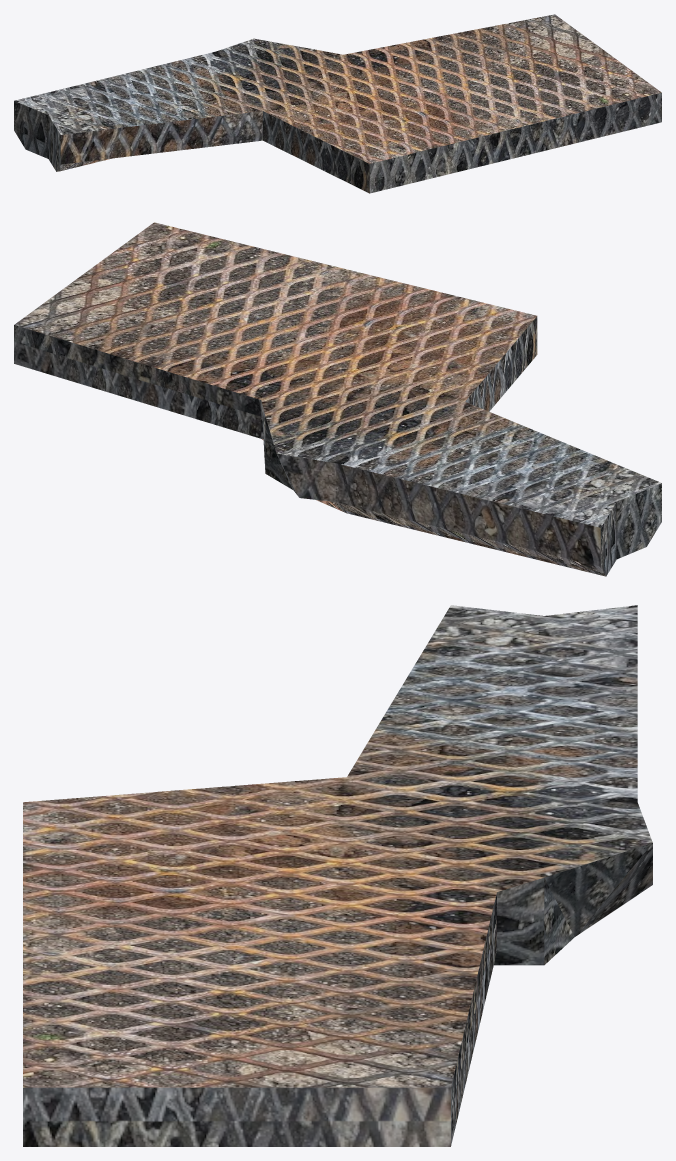
Rendered from ledge01.obj.
3 views of the same model, one above another, from view 1: azimuth 30°, elevation 25°; view 2: azimuth 150°, elevation 25°; view 3: azimuth 270°, elevation 25° (orthographic). The views are drawn at different scales.
Visible parts, largest first — view 1: Plane.001; view 2: Plane.001; view 3: Plane.001.
Boxes of the visible parts, x1,y1,x2,y2 form: Plane.001: (14,14,661,193); Plane.001: (14,222,661,576); Plane.001: (23,605,652,1146).
Size of the model in its own units: 12.23 by 1.04 by 6.75.
